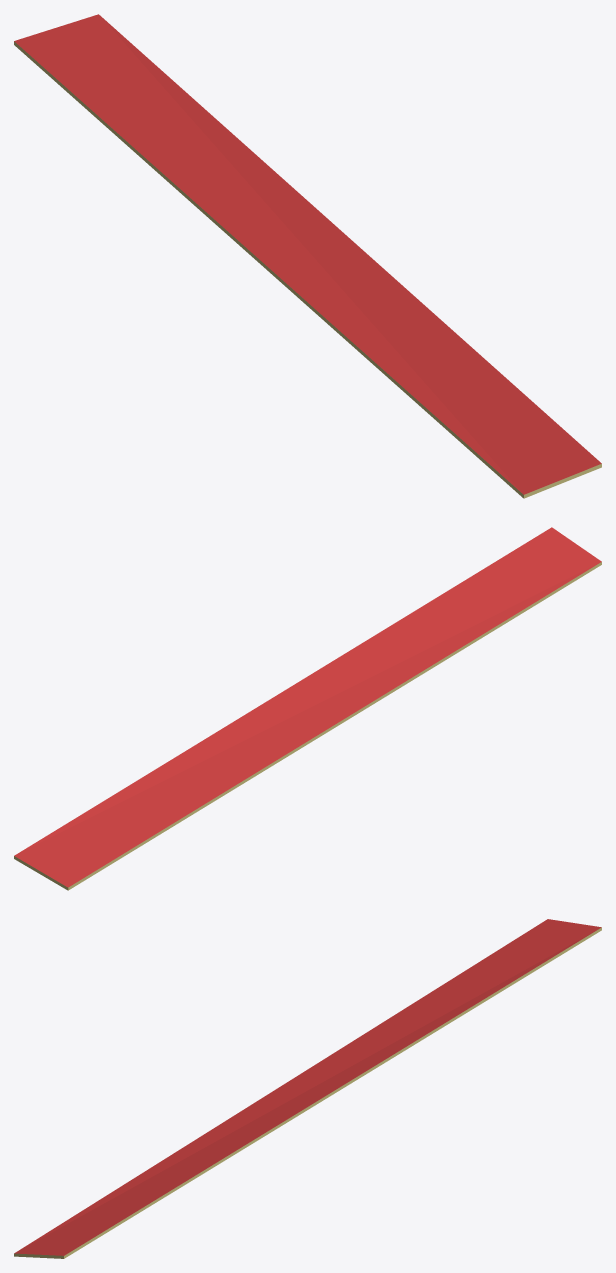
3 views of the same model, one above another, from view 1: azimuth 30°, elevation 25°; view 2: azimuth 150°, elevation 25°; view 3: azimuth 330°, elevation 25° (orthographic). The views are drawn at different scales.
Size of the model in its own units: 4.19 by 28.18 by 0.622.
